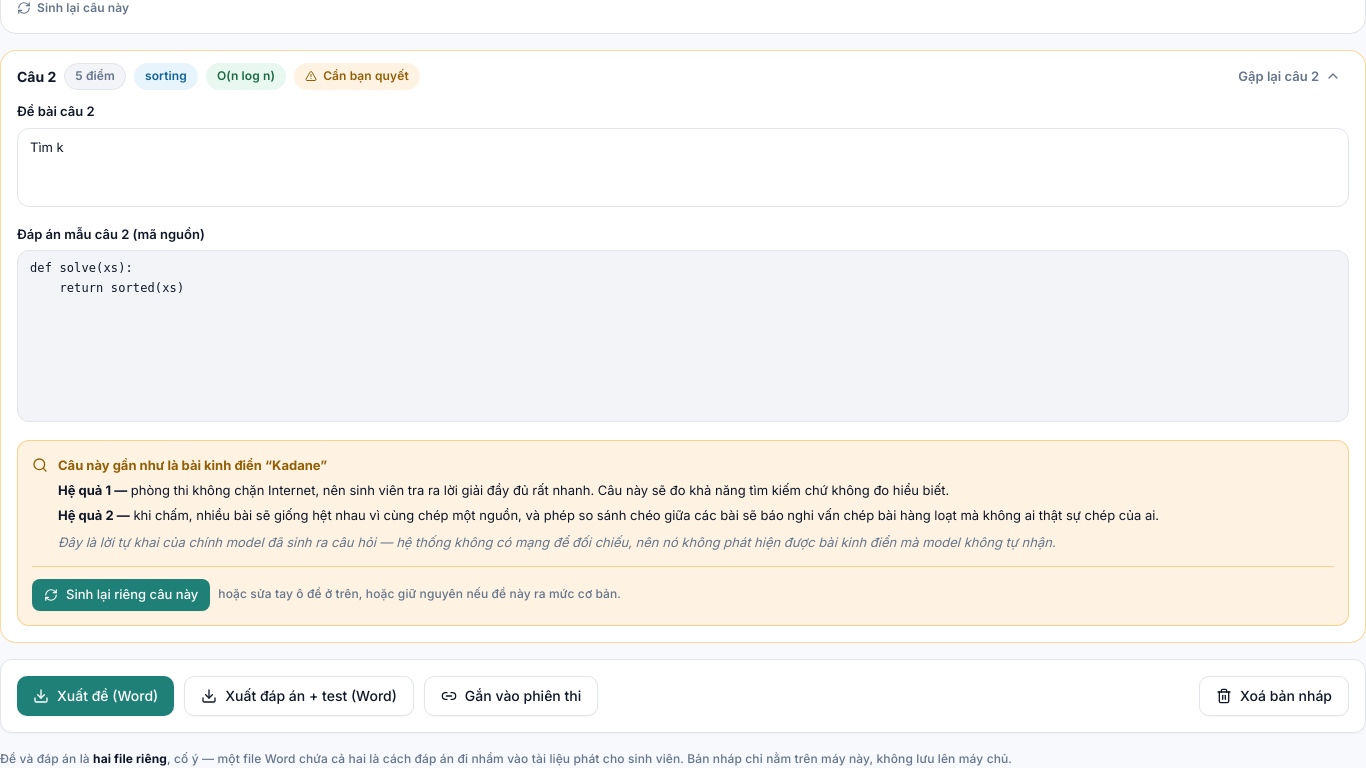
it: ExamAuthoringPage — gắn vào phiên thi › bấm Huỷ ở bước cảnh báo thì quay về chọn phiên, KHÔNG gắn gì
(page scrolled)
Expected: the text box showing "Tìm k" is shown, [17, 128, 1349, 207]
Click the button "Gắn vào phiên thi". click: click(511, 696)
box: [424, 676, 598, 716]
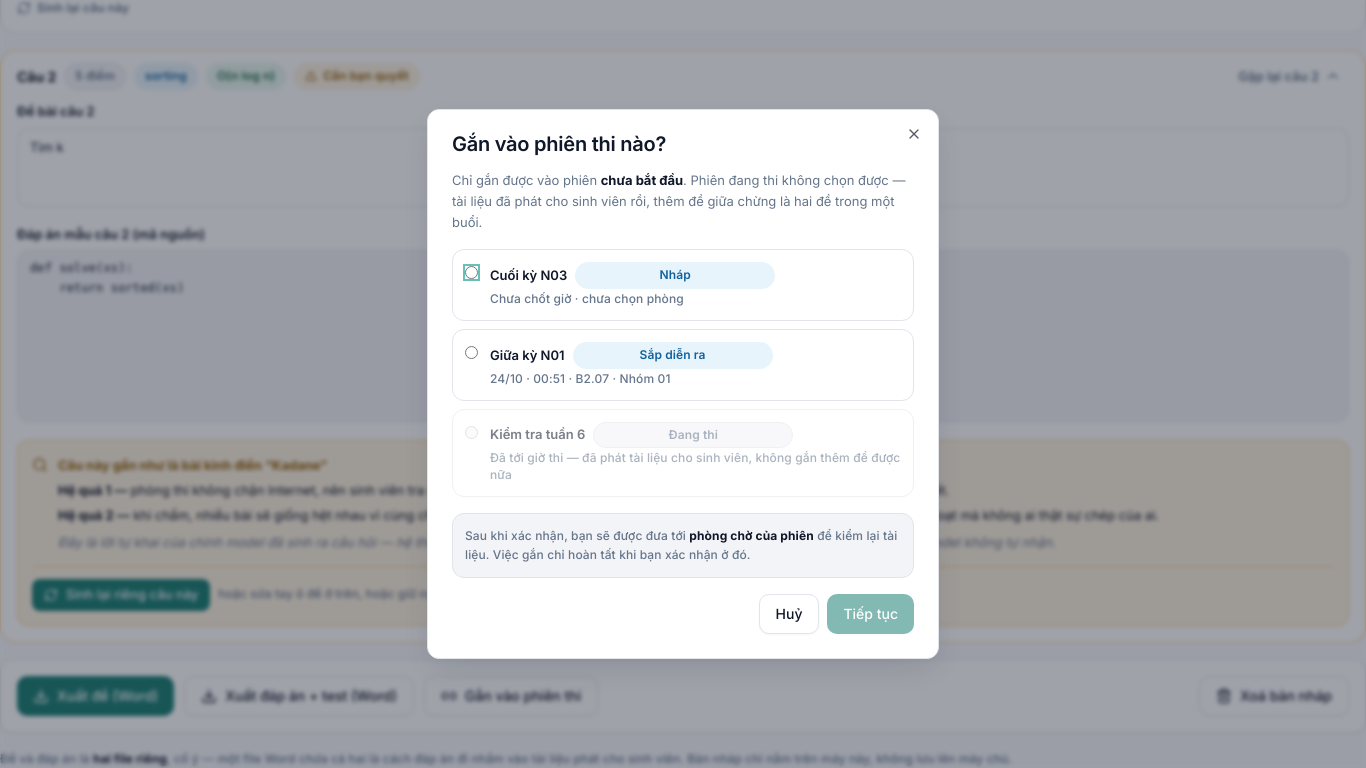
Click the radio button labelled "Giữa kỳ N01 Sắp diễn ra 24/10 · 00:51 · B2.07 · Nhóm 01". click: click(472, 352)
box: [465, 346, 478, 359]
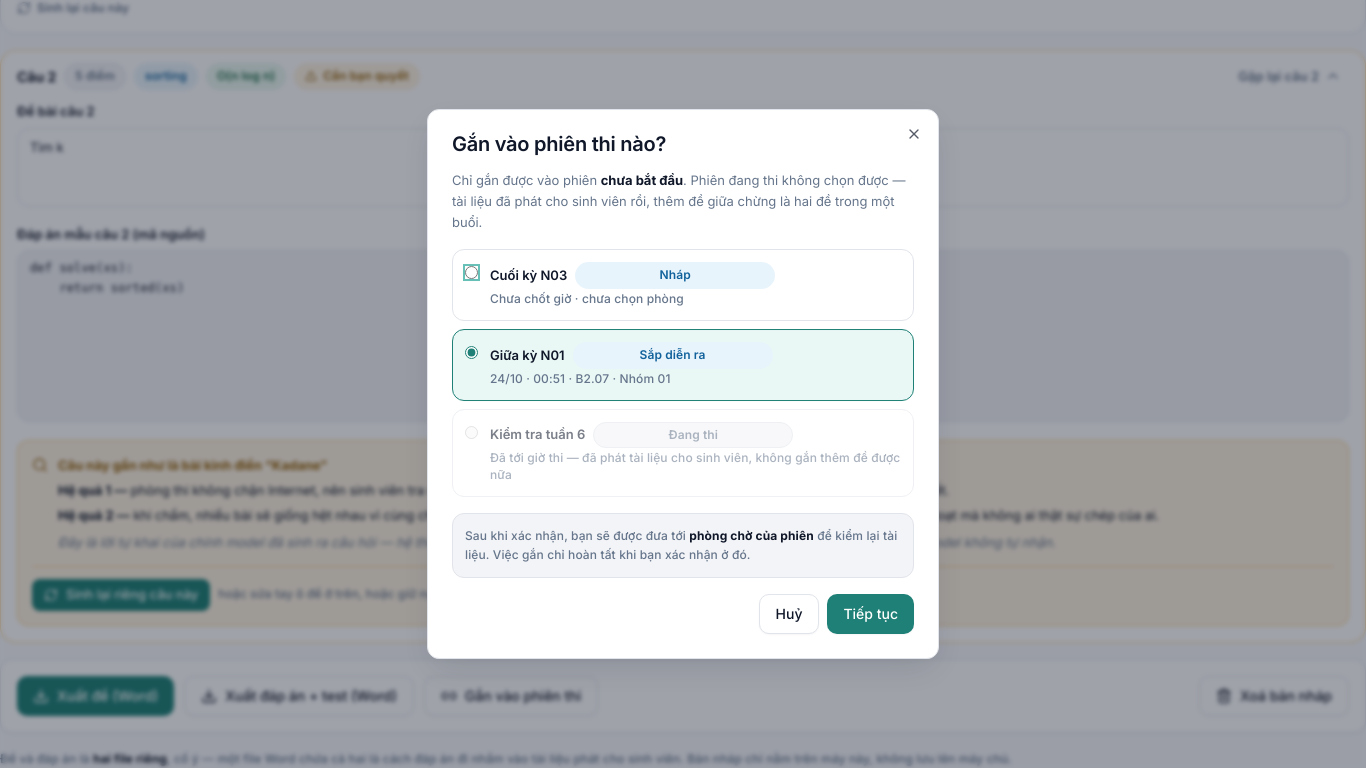
Click the button "Tiếp tục". click: click(871, 614)
box: [828, 594, 914, 634]
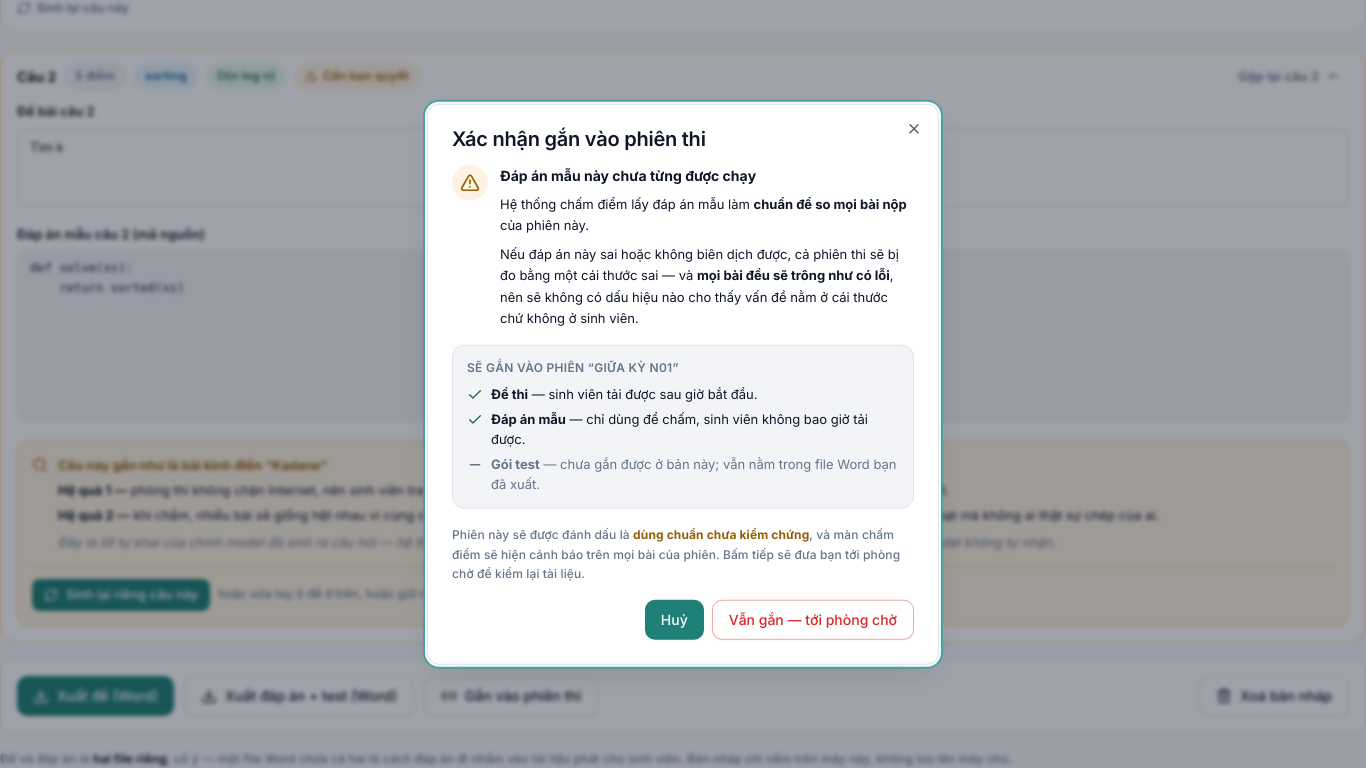
Click the button "Huỷ". click: click(674, 619)
box: [645, 599, 704, 639]
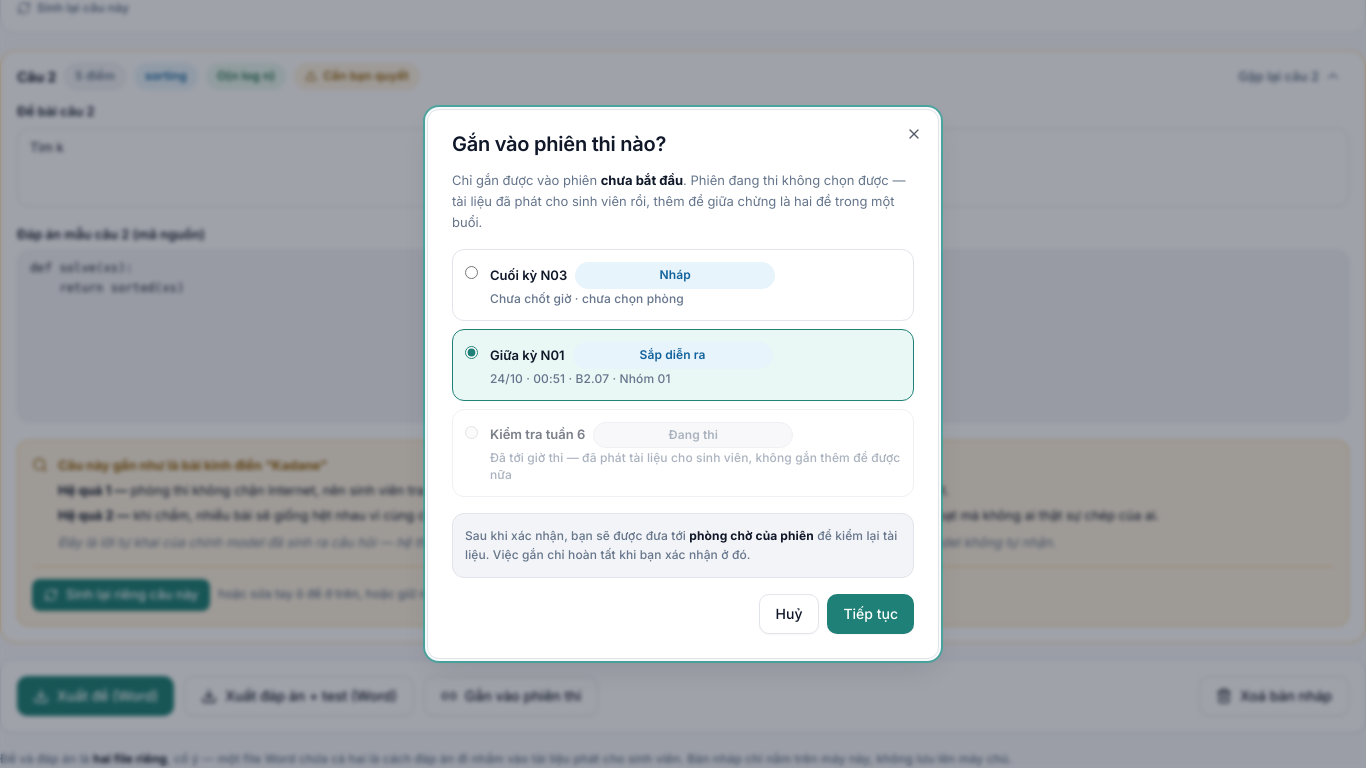
Expected: the radio button labelled "Giữa kỳ N01 Sắp diễn ra 24/10 · 00:51 · B2.07 · Nhóm 01" is shown, [465, 346, 478, 359]
